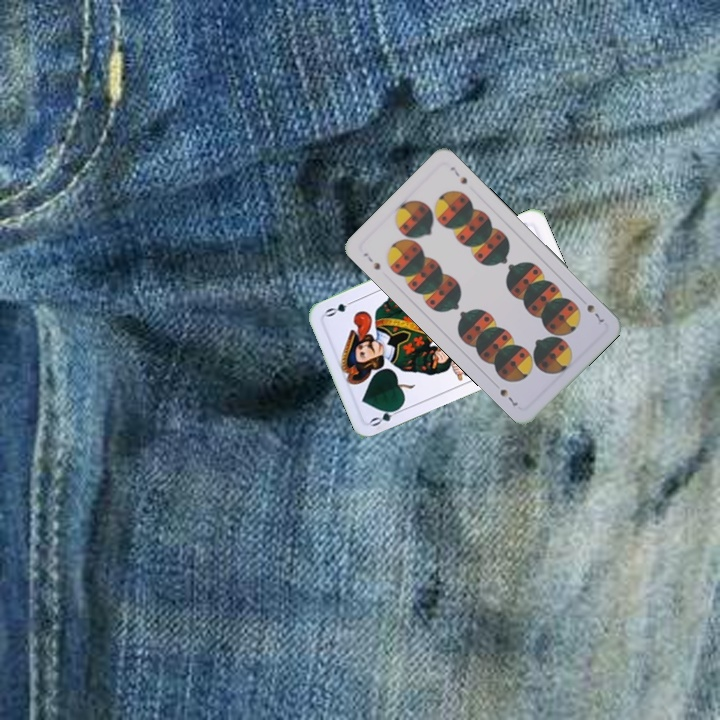GO: (366, 402, 406, 429)
S7: (583, 301, 607, 325), (359, 248, 383, 272)
